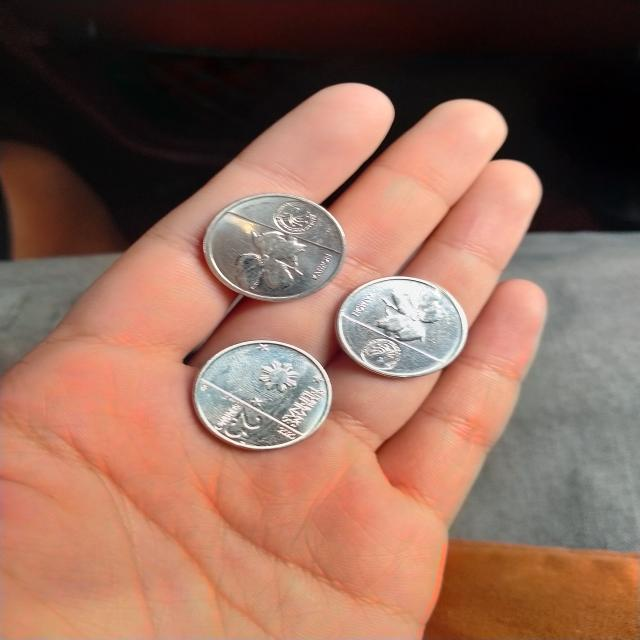25Cent_New_Back: (223, 224, 310, 296)
25Cent_New_Front: (212, 404, 275, 448)
